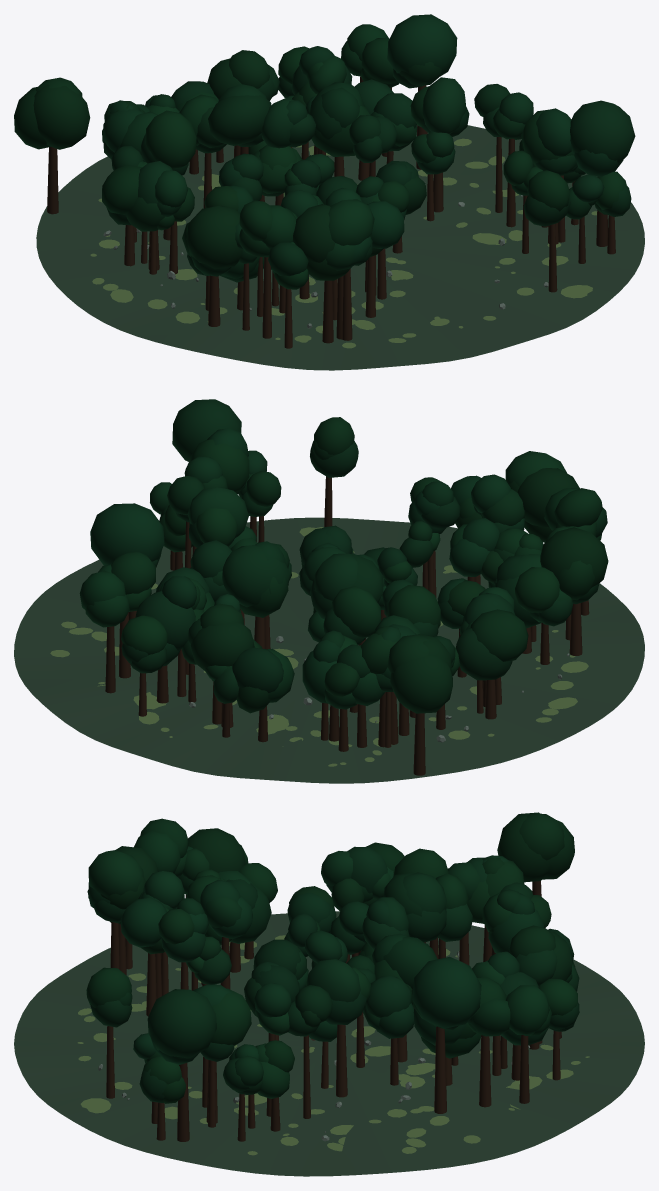
Rendered from forest-lighting-lab-v1.glb.
3 views of the same model, one above another, from view 1: azimuth 30°, elevation 25°; view 2: azimuth 150°, elevation 25°; view 3: azimuth 270°, elevation 25° (orthographic). The views are drawn at different scales.
Parts seen in each view (by area): view 1: Tree_Crowns, Ground, Tree_Trunks, Moss_Patches; view 2: Tree_Crowns, Ground, Tree_Trunks, Moss_Patches; view 3: Tree_Crowns, Ground, Tree_Trunks, Moss_Patches.
Boxes of the visible parts, x1,y1,x2,y2 form: Tree_Crowns: [14, 14, 635, 289]; Ground: [36, 125, 644, 370]; Tree_Trunks: [47, 76, 615, 348]; Moss_Patches: [90, 138, 597, 348]; Tree_Crowns: [79, 399, 608, 713]; Ground: [14, 517, 644, 783]; Tree_Trunks: [105, 476, 589, 775]; Moss_Patches: [50, 527, 588, 766]; Tree_Crowns: [86, 812, 579, 1103]; Ground: [14, 911, 644, 1176]; Tree_Trunks: [106, 881, 561, 1141]; Moss_Patches: [77, 935, 589, 1155].
Size of the model in its own units: 98 by 26.76 by 98.
